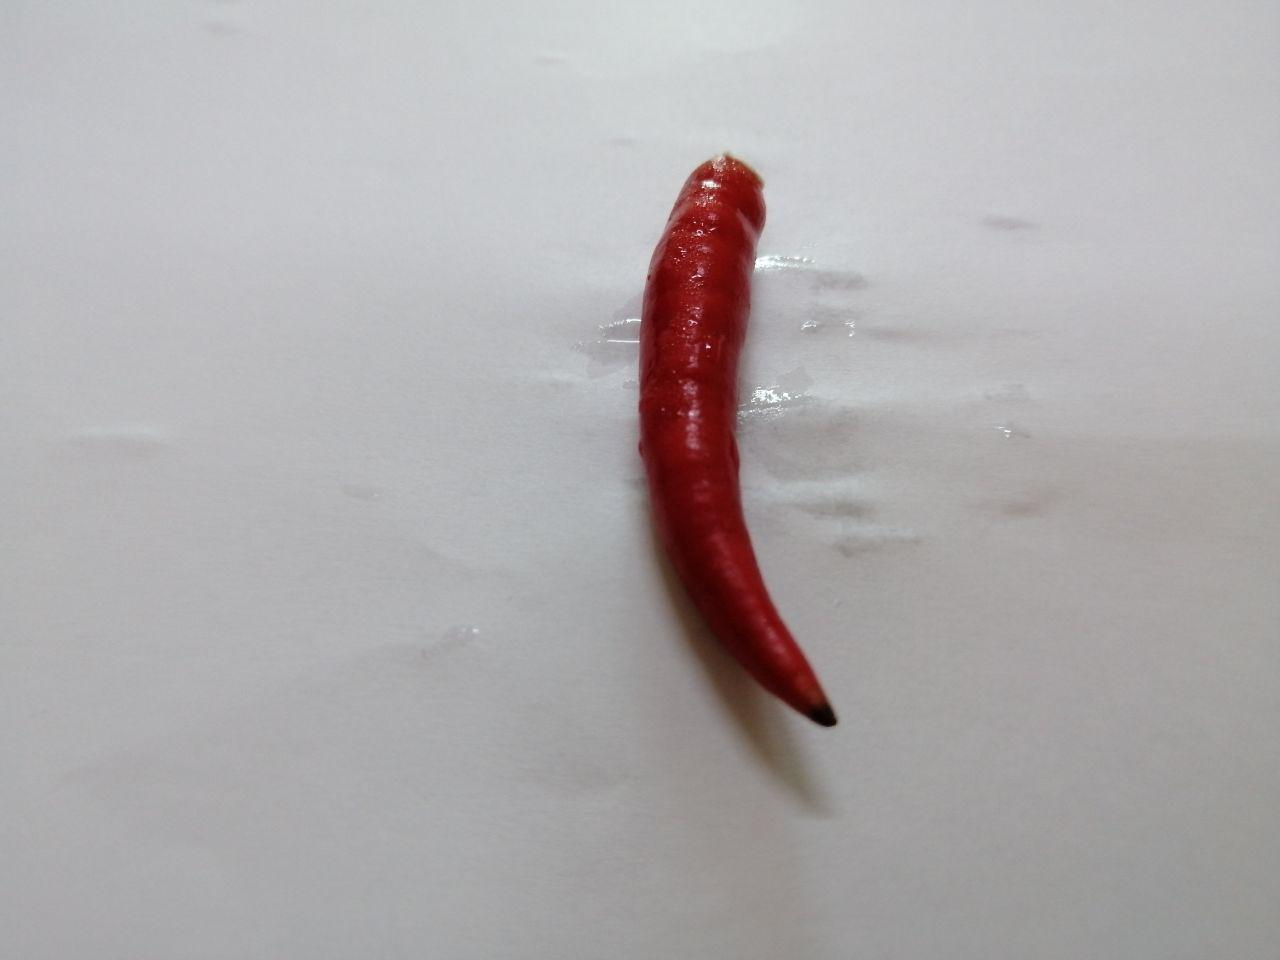lada merah: (622, 139, 890, 772)
